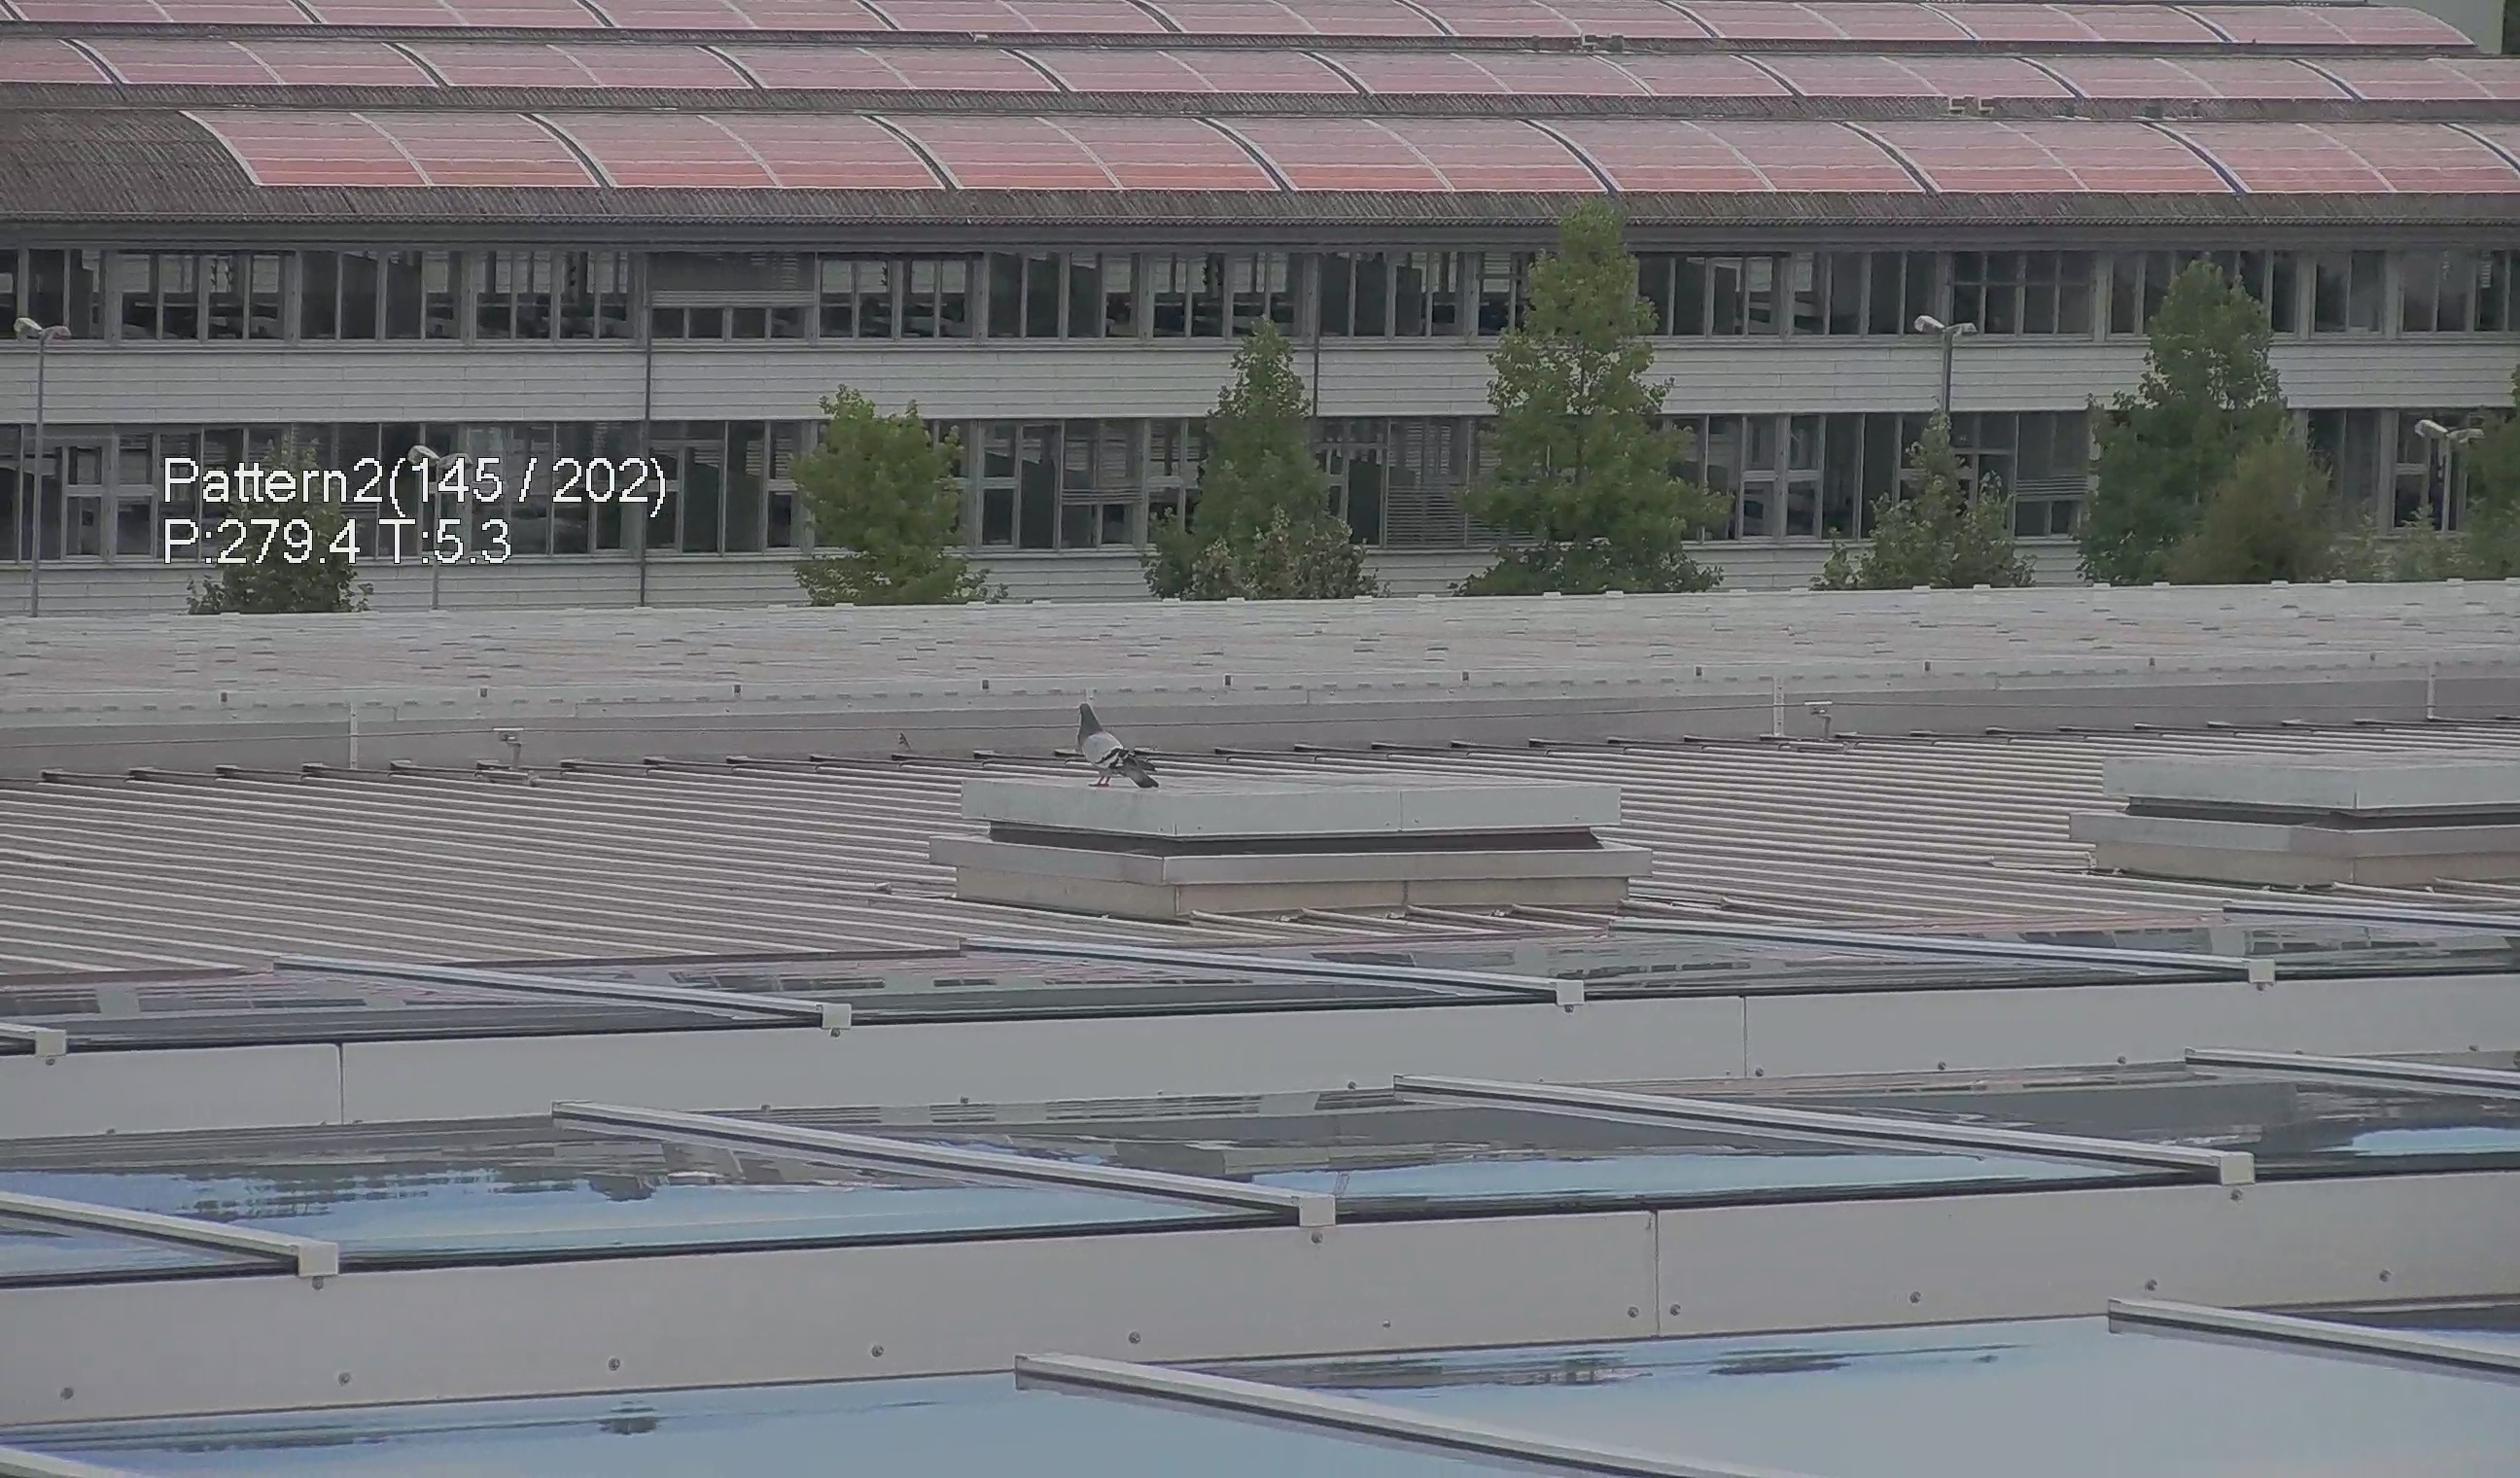Pigeon: (1059, 693, 1171, 795)
